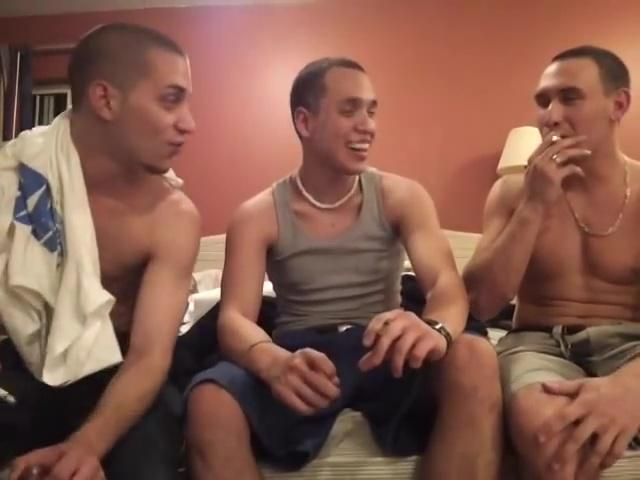cigarette: (376, 316, 393, 340), (549, 135, 565, 145)
